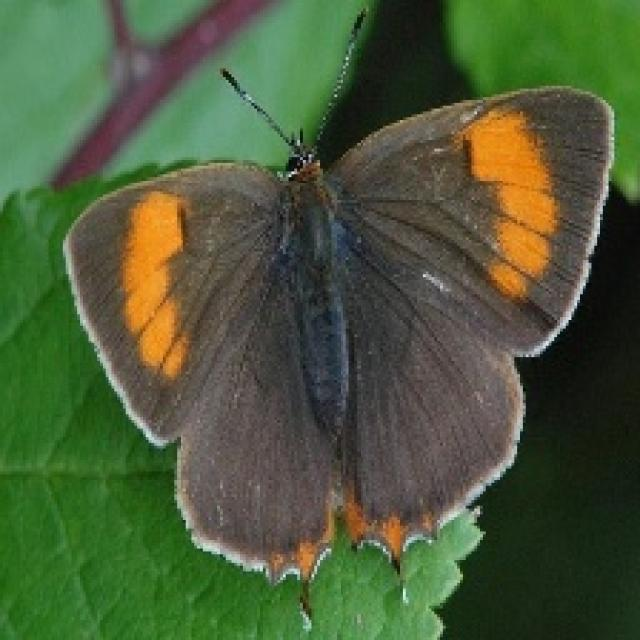butterfly: (57, 3, 614, 626)
